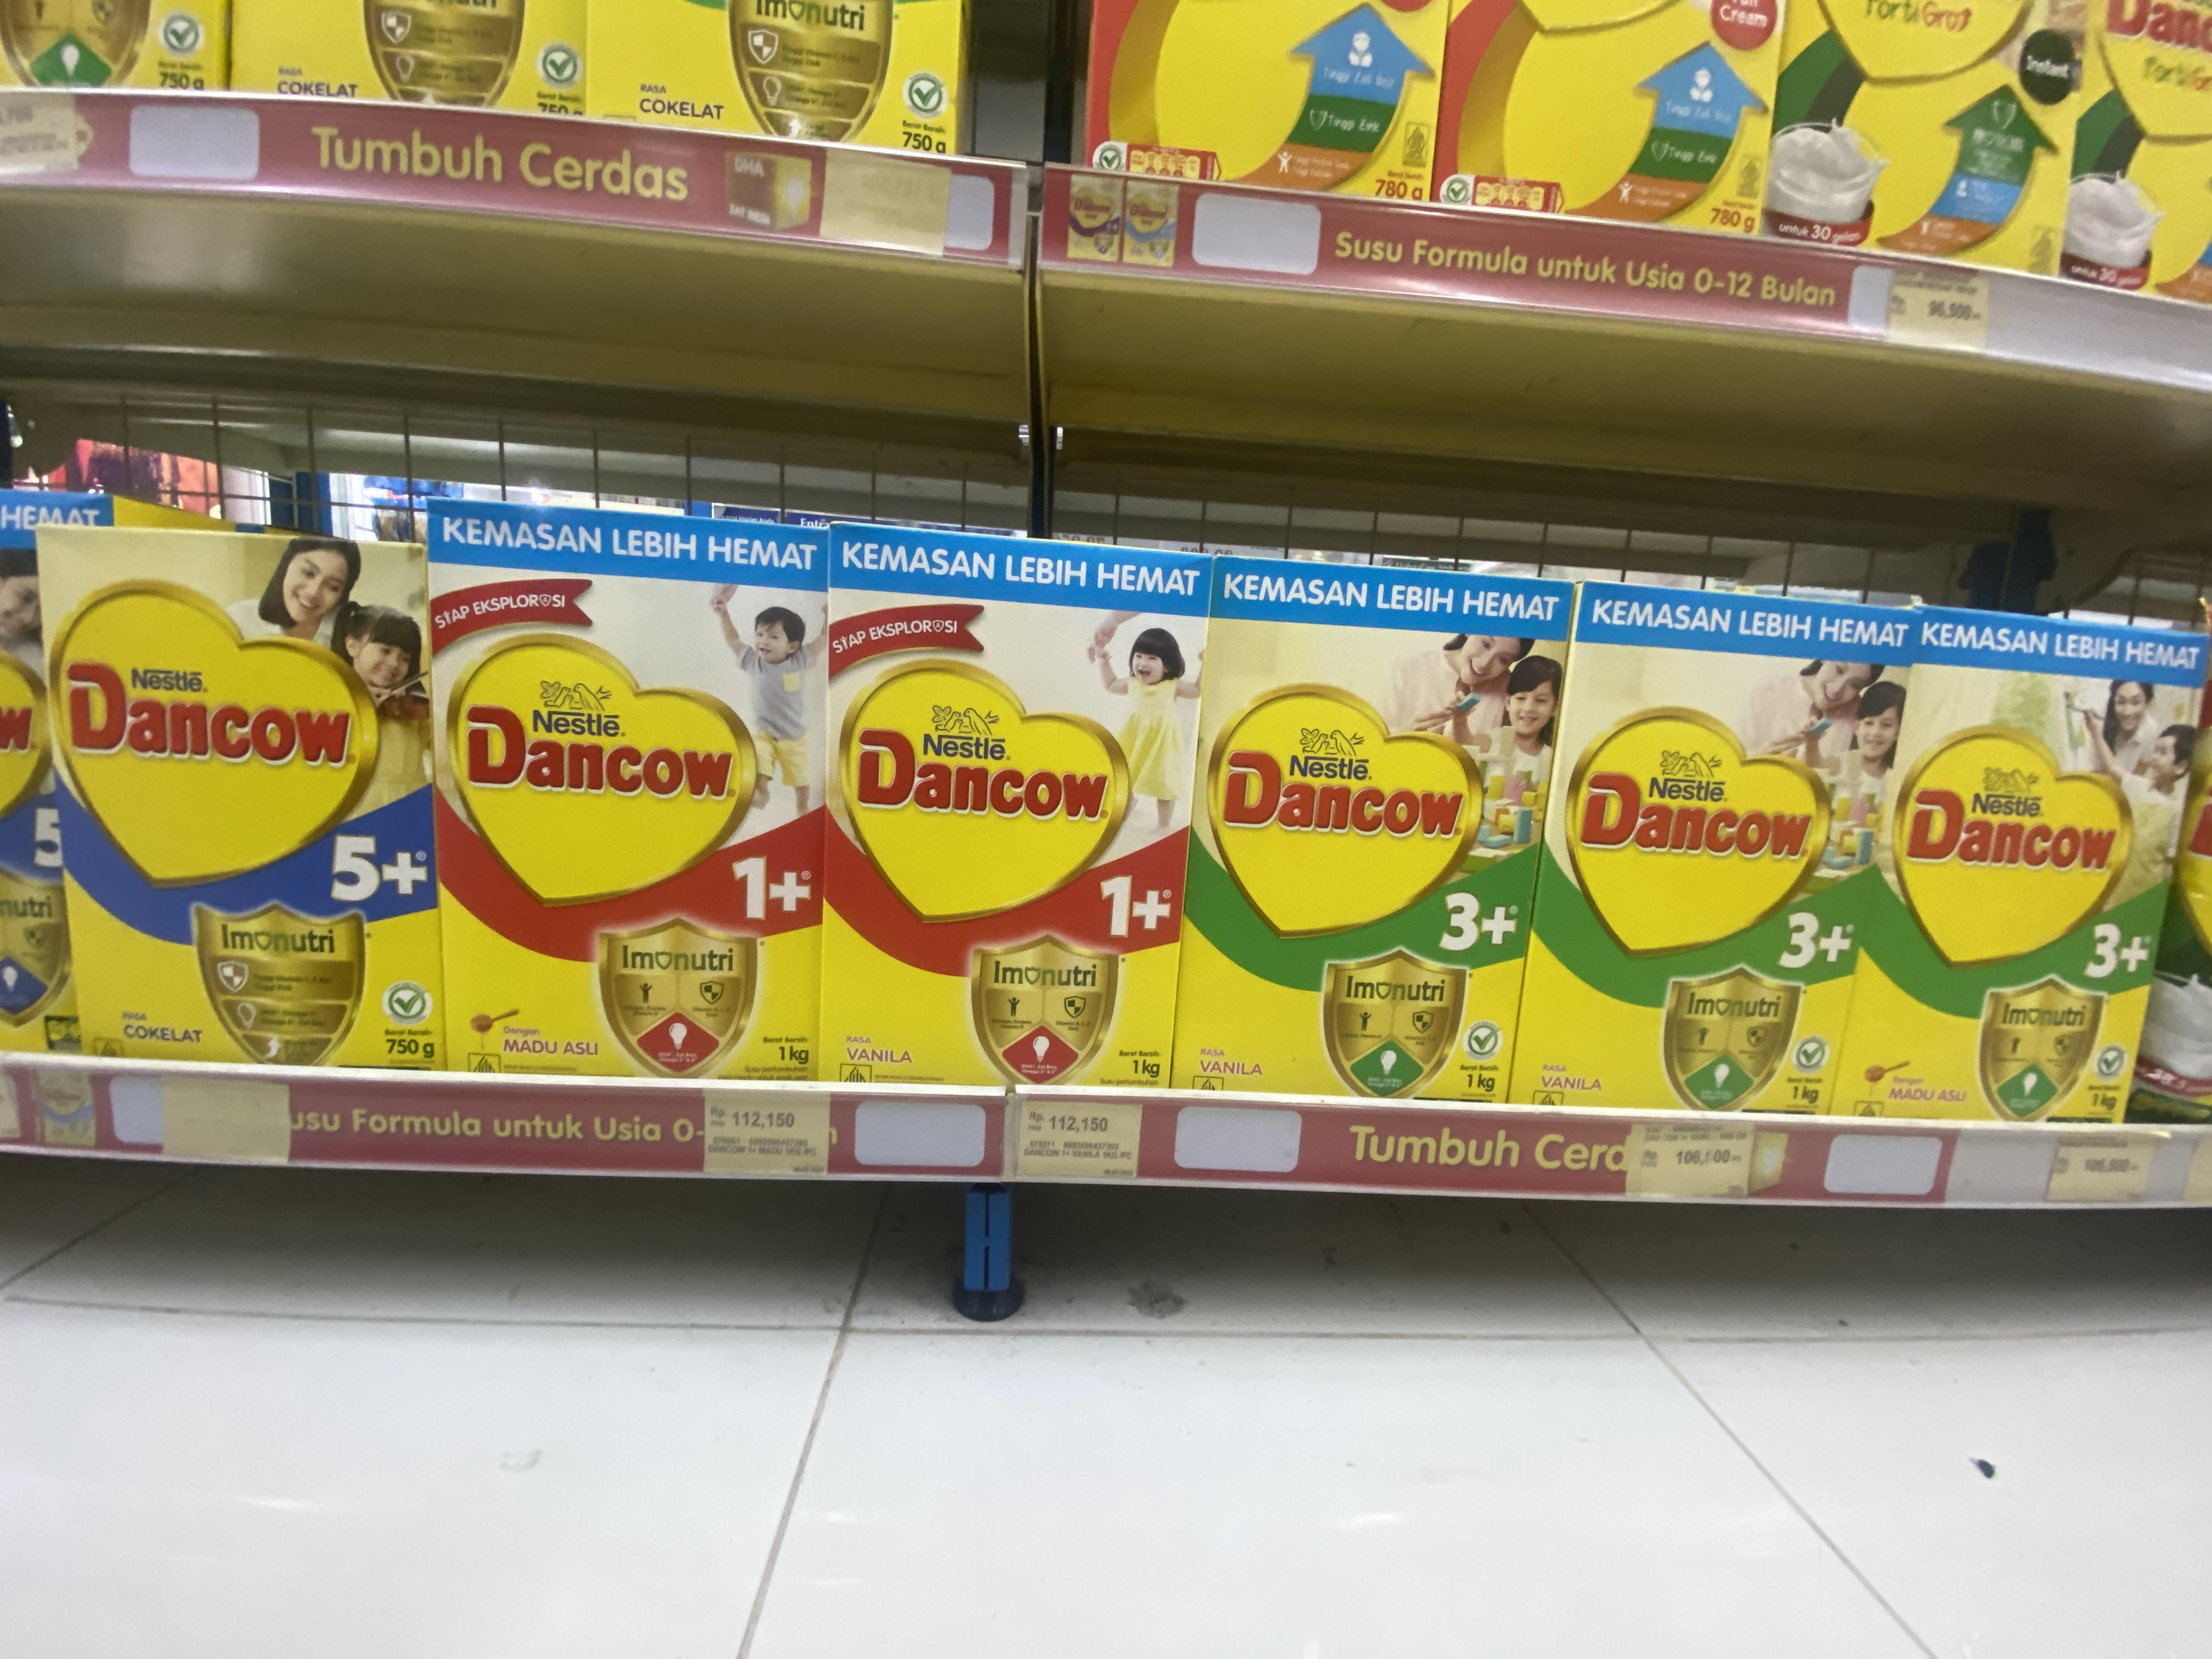DANCOW 1+ Madu Advn ExcNutr 12x1000g N1 ID_REDESIGN3: (439, 561, 827, 1080)
DANCOW 1+ Van Advn ExcNutr 12x1000g ID_REDESIGN3: (827, 592, 1205, 1093)
DANCOW 3+ Madu Advn ExcNutr 12x1000g ID_REDESIGN3: (1824, 664, 2203, 1133)
DANCOW 3+ Van Advn ExcNutr 12x1000g ID_REDESIGN3: (1172, 619, 1573, 1112), (1505, 640, 1909, 1127)
